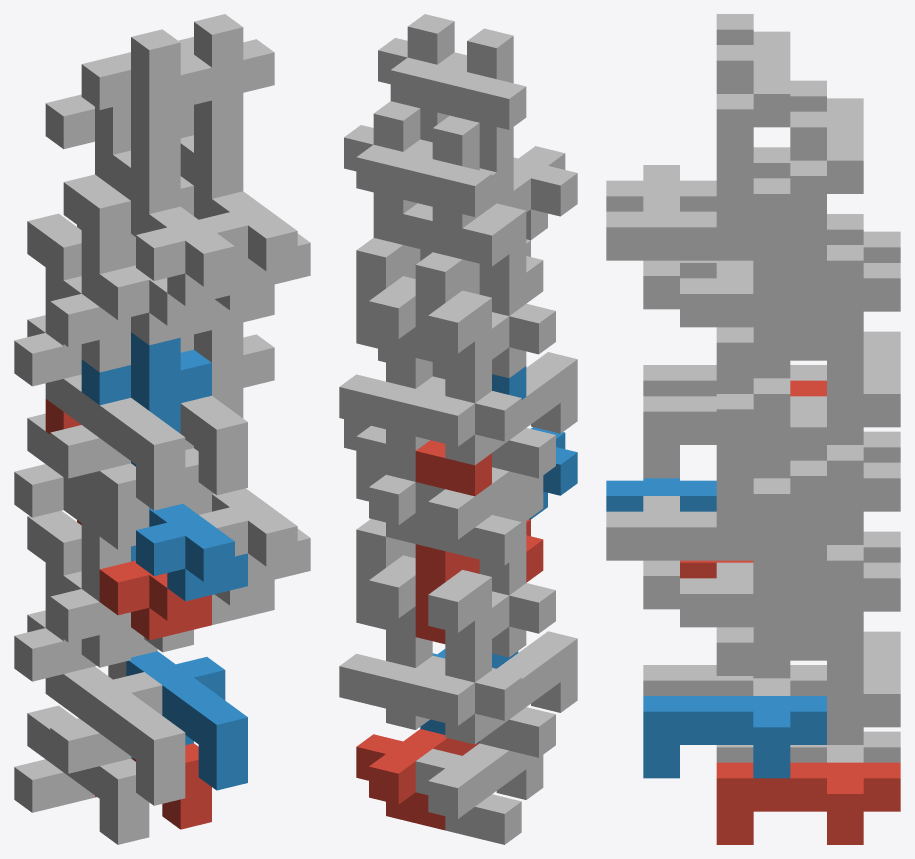
File: tiling.obj
3 renders of one model, left to right at view 1: azimuth 30°, elevation 25°; view 2: azimuth 150°, elevation 25°; view 3: azimuth 270°, elevation 25°, orthographic. The views are drawn at different scales.
Visible parts, largest first — view 1: copy_4_domain_4, copy_2_domain_2, copy_4_domain_8, copy_2_domain_4, copy_3_domain_4, copy_2_domain_6, copy_2_domain_1, copy_1_domain_4, copy_3_domain_2, copy_1_domain_2, copy_3_domain_1, copy_3_domain_3 (+17 smaller); view 2: copy_3_domain_1, copy_3_domain_3, copy_4_domain_3, copy_4_domain_7, copy_2_domain_1, copy_3_domain_4, copy_4_domain_4, copy_3_domain_7, copy_3_domain_5, copy_2_domain_3, copy_2_domain_2, copy_2_domain_4 (+15 smaller); view 3: copy_1_domain_6, copy_1_domain_8, copy_2_domain_6, copy_4_domain_8, copy_2_domain_5, copy_1_domain_5, copy_1_domain_7, copy_4_domain_7, copy_4_domain_5, copy_4_domain_6, copy_3_domain_5, copy_2_domain_8 (+17 smaller).
Part boxes in pixels (x1,y1,x2,y2): copy_4_domain_4: [81, 29, 211, 213]; copy_2_domain_2: [50, 666, 185, 805]; copy_4_domain_8: [178, 14, 274, 198]; copy_2_domain_4: [50, 374, 185, 510]; copy_3_domain_4: [50, 174, 130, 372]; copy_2_domain_6: [126, 651, 247, 790]; copy_2_domain_1: [14, 705, 149, 844]; copy_1_domain_4: [131, 201, 247, 306]; copy_3_domain_2: [50, 477, 130, 667]; copy_1_domain_2: [131, 503, 247, 601]; copy_3_domain_1: [14, 510, 94, 706]; copy_3_domain_3: [14, 213, 81, 411]; copy_3_domain_1: [398, 570, 521, 744]; copy_3_domain_3: [398, 290, 521, 465]; copy_4_domain_3: [403, 115, 491, 302]; copy_4_domain_7: [344, 101, 432, 288]; copy_2_domain_1: [415, 743, 543, 844]; copy_3_domain_4: [462, 203, 555, 377]; copy_4_domain_4: [437, 28, 526, 215]; copy_3_domain_7: [339, 276, 445, 450]; copy_3_domain_5: [339, 555, 445, 729]; copy_2_domain_3: [415, 467, 543, 565]; copy_2_domain_2: [479, 631, 577, 757]; copy_2_domain_4: [492, 352, 577, 478]; copy_1_domain_6: [606, 496, 790, 609]; copy_1_domain_8: [606, 196, 790, 309]; copy_2_domain_6: [643, 696, 826, 778]; copy_4_domain_8: [716, 45, 790, 227]; copy_2_domain_5: [716, 762, 900, 844]; copy_1_domain_5: [680, 562, 863, 675]; copy_1_domain_7: [680, 263, 863, 375]; copy_4_domain_7: [790, 111, 863, 293]; copy_4_domain_5: [790, 411, 863, 593]; copy_4_domain_6: [716, 376, 790, 527]; copy_3_domain_5: [827, 562, 900, 744]; copy_2_domain_8: [643, 396, 826, 478].
Bounding box in the file's own units: 6 × 24 × 8.
